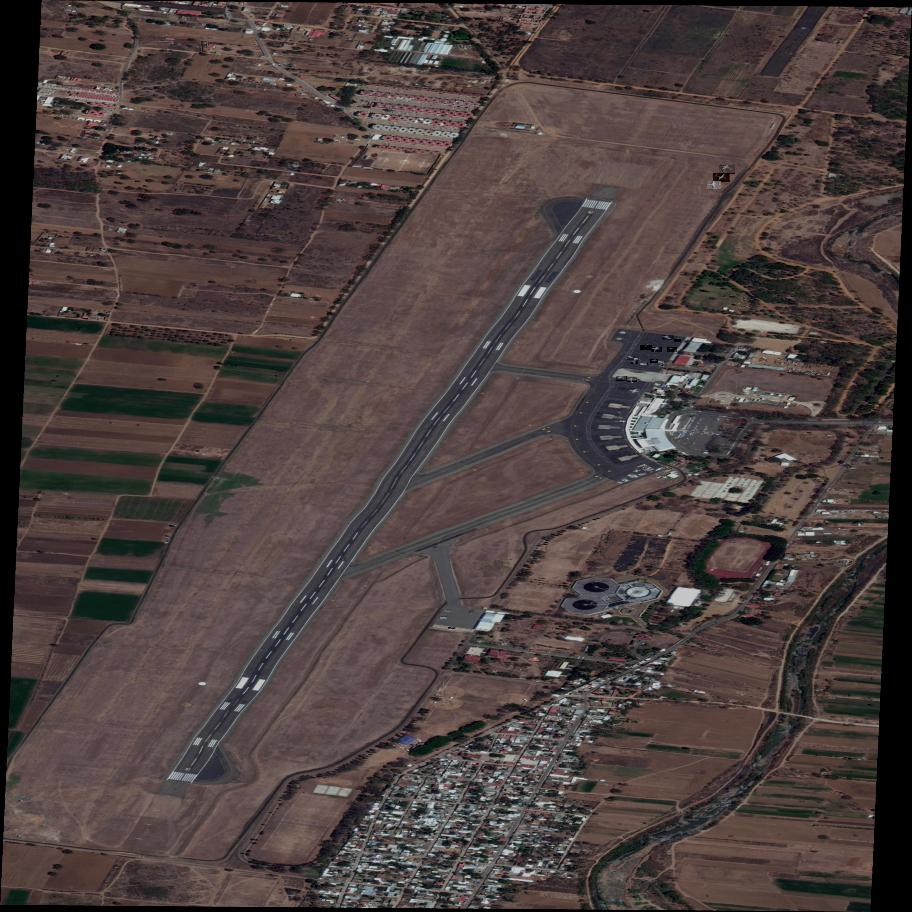plane: (713, 173, 730, 184), (720, 165, 735, 176), (708, 181, 721, 189), (662, 334, 674, 341), (628, 389, 640, 395), (616, 376, 626, 382), (641, 345, 652, 350), (627, 356, 634, 361), (651, 348, 662, 351), (667, 348, 676, 351), (674, 339, 681, 342), (628, 379, 637, 381), (640, 363, 647, 365), (651, 360, 658, 362), (440, 617, 447, 619), (657, 365, 663, 367), (632, 362, 638, 363), (449, 628, 455, 629), (434, 626, 440, 627), (659, 362, 664, 363), (635, 359, 638, 360)
